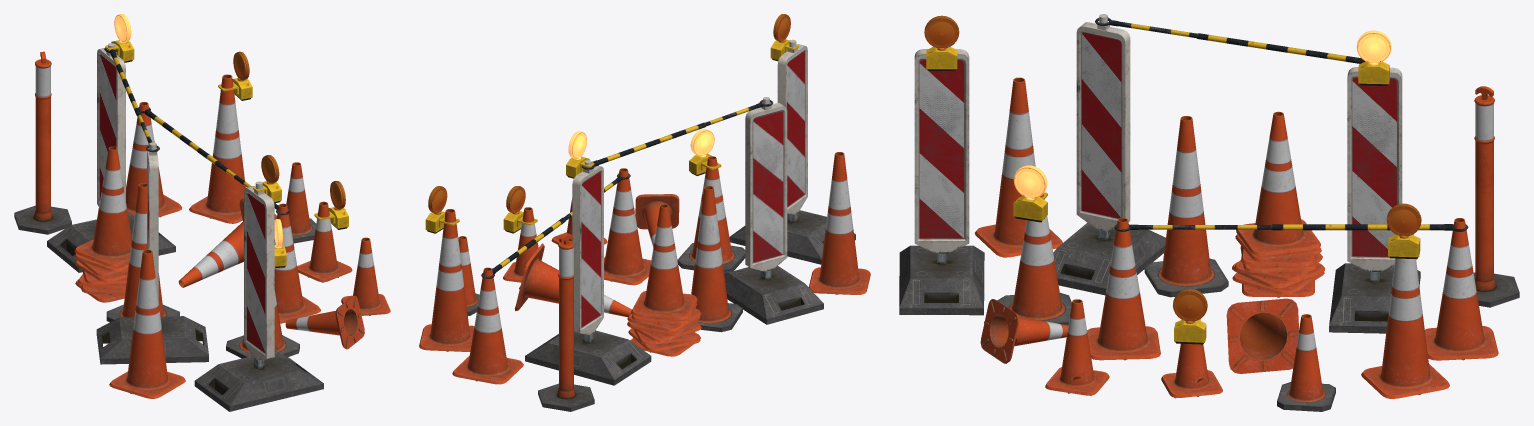
Rendered from cones.glb.
3 views of the same model, side by side, from view 1: azimuth 30°, elevation 25°; view 2: azimuth 150°, elevation 25°; view 3: azimuth 270°, elevation 25° (orthographic). The views are drawn at different scales.
Visible parts, largest first — view 1: Vertical_Panel_1.002, Vertical_Panel_1.001, Vertical_Panel_1.003, Traffic_Cone_3_2.003, Traffic_Cone_3_2.001, Bollard_1.001, Traffic_Cone_2_2.011, Traffic_Cone_2_2.002, Traffic_Cone_3_1.001, Traffic_Cone_2_2.003, Traffic_Cone_1_2.002, Traffic_Cone_1_2.004 (+11 smaller); view 2: Vertical_Panel_1.003, Vertical_Panel_1.001, Vertical_Panel_1.002, Traffic_Cone_3_2.003, Traffic_Cone_3_2.001, Traffic_Cone_3_1.001, Traffic_Cone_2_2.011, Traffic_Cone_2_2.003, Bollard_1.001, Traffic_Cone_2_2.002, Traffic_Cone_2_2.012, Traffic_Cone_2_1.001 (+12 smaller); view 3: Vertical_Panel_1.002, Vertical_Panel_1.003, Vertical_Panel_1.001, Traffic_Cone_3_1.001, Traffic_Cone_3_2.001, Traffic_Cone_2_2.002, Traffic_Cone_2_2.003, Traffic_Cone_2_2.011, Traffic_Cone_2_2.012, Bollard_1.001, Traffic_Cone_3_2.003, Traffic_Cone_2_1.001 (+17 smaller).
Part boxes in pixels (x1,y1,x2,y2): Vertical_Panel_1.002: [194, 181, 323, 411]; Vertical_Panel_1.001: [47, 43, 175, 272]; Vertical_Panel_1.003: [96, 142, 208, 364]; Traffic_Cone_3_2.003: [109, 249, 185, 398]; Traffic_Cone_3_2.001: [189, 74, 245, 223]; Bollard_1.001: [14, 51, 71, 234]; Traffic_Cone_2_2.011: [74, 146, 131, 267]; Traffic_Cone_2_2.002: [274, 203, 320, 323]; Traffic_Cone_3_1.001: [106, 183, 179, 321]; Traffic_Cone_2_2.003: [126, 102, 182, 217]; Traffic_Cone_1_2.002: [285, 295, 364, 349]; Traffic_Cone_1_2.004: [297, 201, 352, 282]; Vertical_Panel_1.003: [724, 97, 823, 324]; Vertical_Panel_1.001: [525, 160, 651, 385]; Vertical_Panel_1.002: [729, 39, 855, 264]; Traffic_Cone_3_2.003: [809, 152, 870, 294]; Traffic_Cone_3_2.001: [419, 209, 474, 351]; Traffic_Cone_3_1.001: [691, 186, 742, 332]; Traffic_Cone_2_2.011: [631, 204, 697, 319]; Traffic_Cone_2_2.003: [452, 267, 523, 384]; Bollard_1.001: [538, 233, 594, 411]; Traffic_Cone_2_2.002: [604, 168, 651, 285]; Traffic_Cone_2_2.012: [514, 243, 631, 317]; Traffic_Cone_2_1.001: [677, 156, 745, 273]; Vertical_Panel_1.002: [899, 49, 984, 315]; Vertical_Panel_1.003: [1053, 14, 1165, 295]; Vertical_Panel_1.001: [1329, 67, 1420, 333]; Traffic_Cone_3_1.001: [1144, 116, 1228, 297]; Traffic_Cone_3_2.001: [1361, 258, 1449, 398]; Traffic_Cone_2_2.002: [1087, 218, 1160, 360]; Traffic_Cone_2_2.003: [1425, 218, 1498, 360]; Traffic_Cone_2_2.011: [1236, 111, 1320, 255]; Traffic_Cone_2_2.012: [1226, 298, 1298, 373]; Bollard_1.001: [1473, 86, 1519, 307]; Traffic_Cone_3_2.003: [975, 77, 1062, 257]; Traffic_Cone_2_1.001: [997, 194, 1071, 325].
Size of the model in its own units: 2.38 by 1.65 by 3.29.
2 materials, 2 textured.
